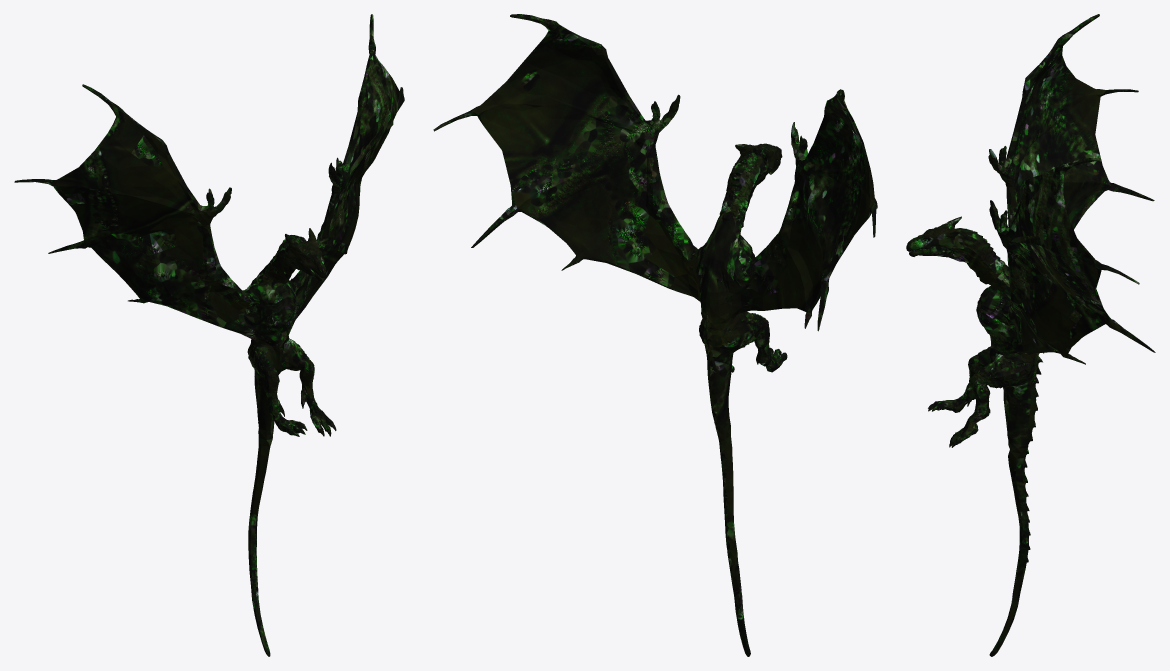
The model's file is frame_0024_uv.obj.
3 renders of one model, left to right at view 1: azimuth 30°, elevation 25°; view 2: azimuth 150°, elevation 25°; view 3: azimuth 270°, elevation 25°, orthographic. The views are drawn at different scales.
Visible parts, largest first — view 1: pMesh1; view 2: pMesh1; view 3: pMesh1.
Boxes of the visible parts, x1,y1,x2,y2 form: pMesh1: (14,14,404,656); pMesh1: (433,14,877,656); pMesh1: (906,14,1155,656).
Size of the model in its own units: 11.06 by 15.42 by 6.03.
